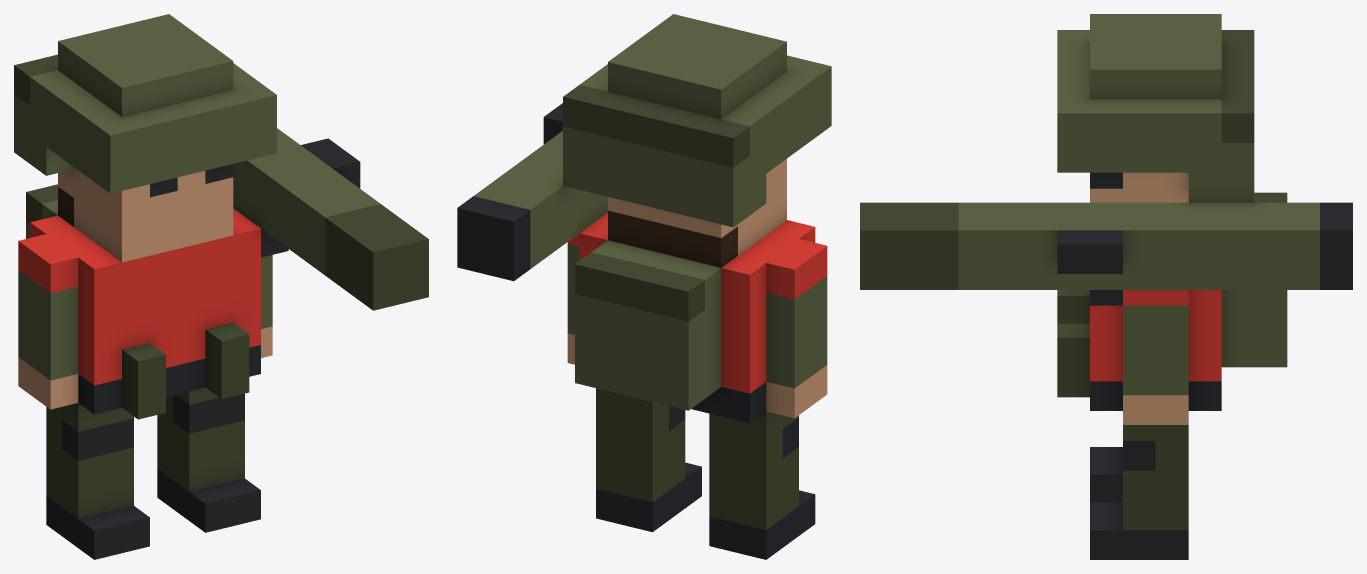
The picture shows the model from 3 angles, left to right: view 1: azimuth 30°, elevation 25°; view 2: azimuth 150°, elevation 25°; view 3: azimuth 270°, elevation 25°; orthographic projection. The views are drawn at different scales.
Visible parts, largest first — view 1: cm_at_0_body; view 2: cm_at_0_body; view 3: cm_at_0_body.
Boxes of the visible parts, x1,y1,x2,y2 form: cm_at_0_body: (14, 14, 428, 559); cm_at_0_body: (457, 14, 831, 559); cm_at_0_body: (860, 14, 1352, 559).
Size of the model in its own units: 0.625 by 1 by 0.9375.
Materials: 1 (1 with a texture image).
